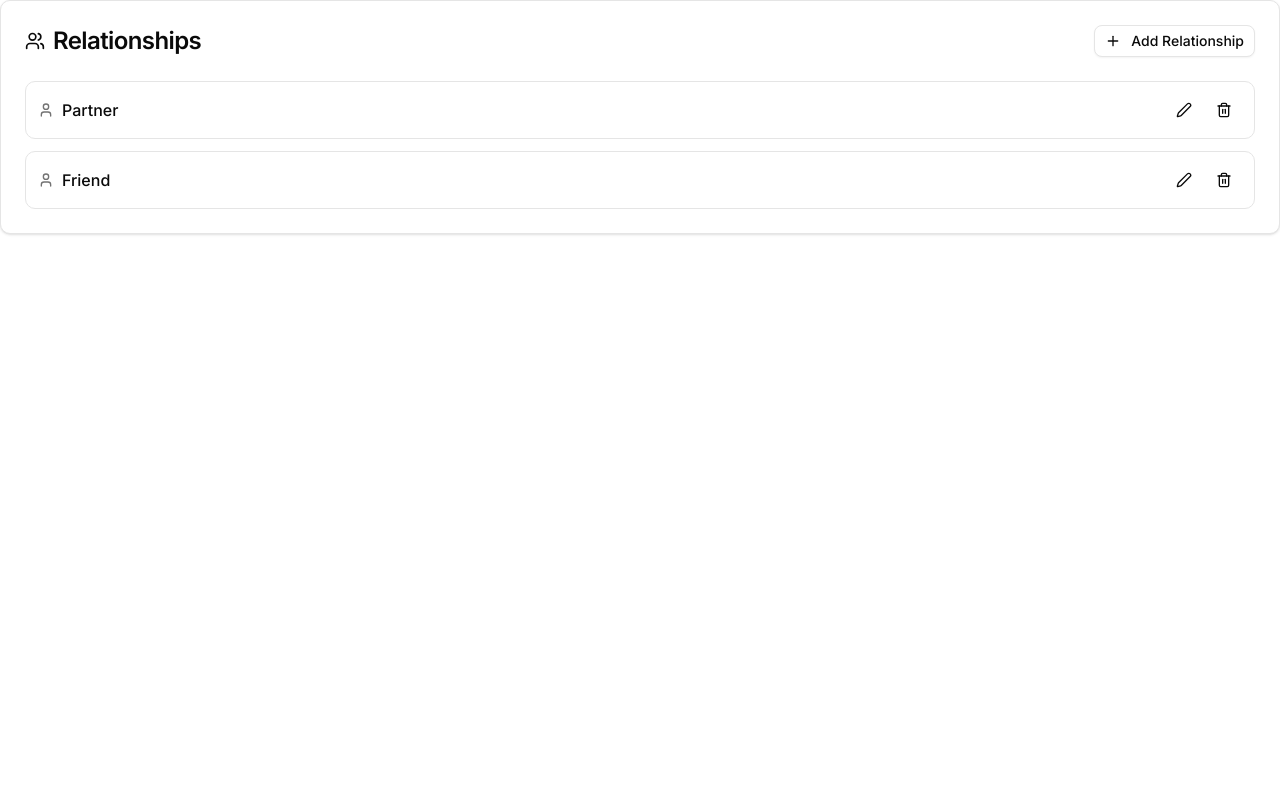
Test: RelationshipsList › closes add relationship form when cancelled
The width and height of the screenshot is (1280, 800).
Click the button "Add Relationship" at point(1175, 41), box top-left (1094, 25), bottom-right (1255, 57)
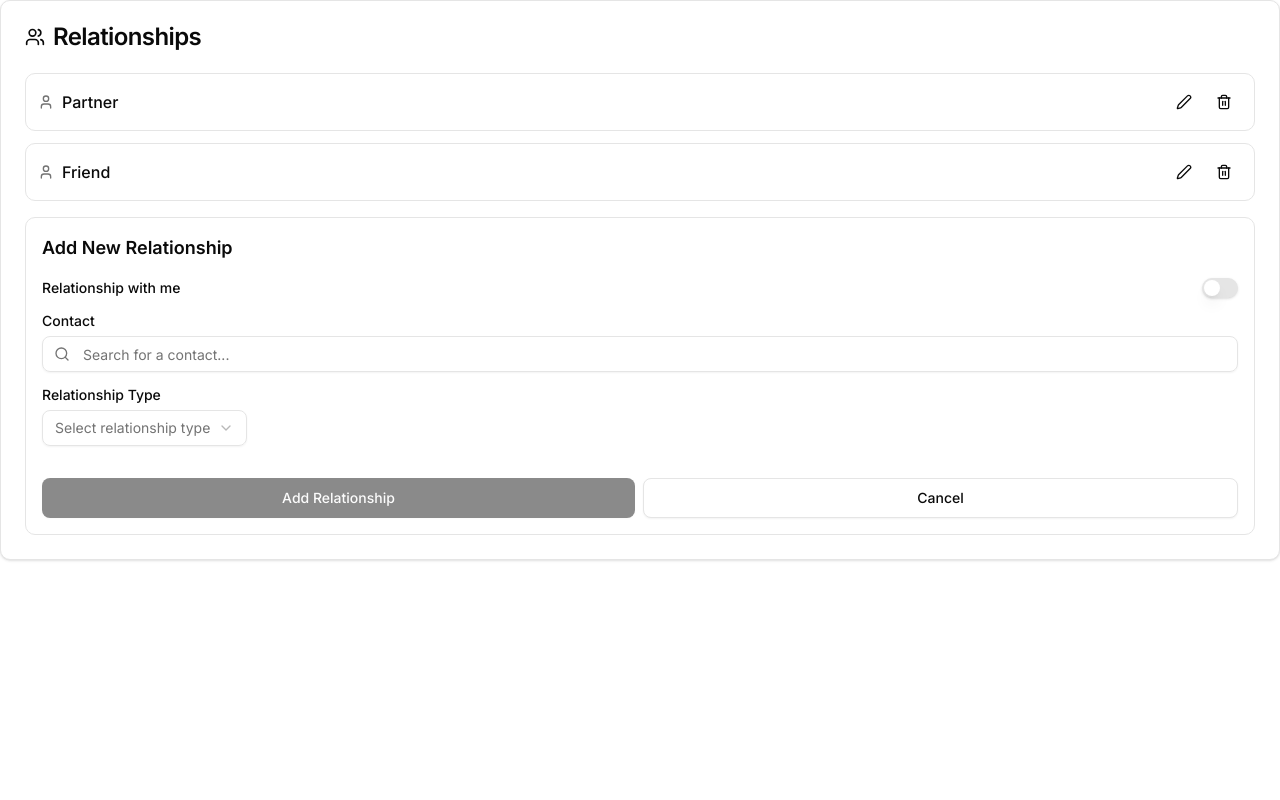
Click the button "Cancel" at point(940, 498), box top-left (643, 478), bottom-right (1238, 518)
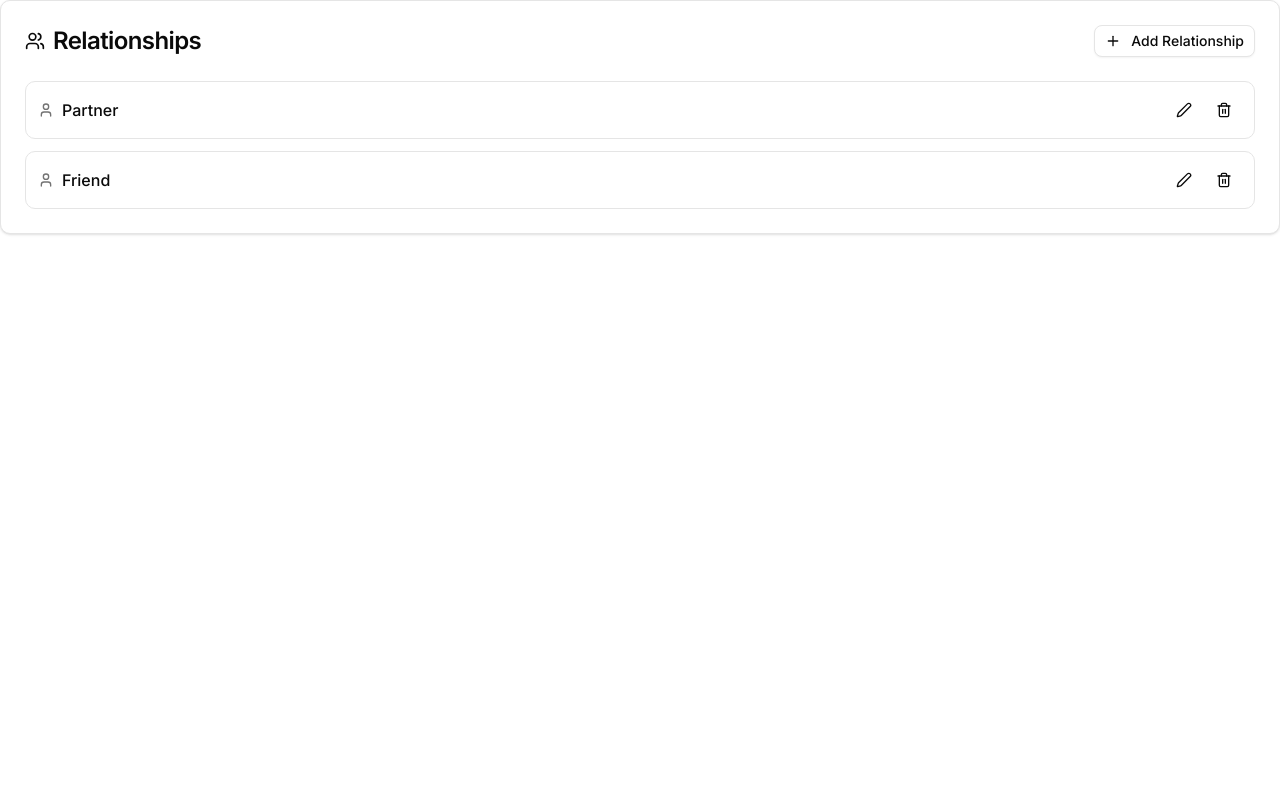
Expected: the heading "Add New Relationship" is gone
